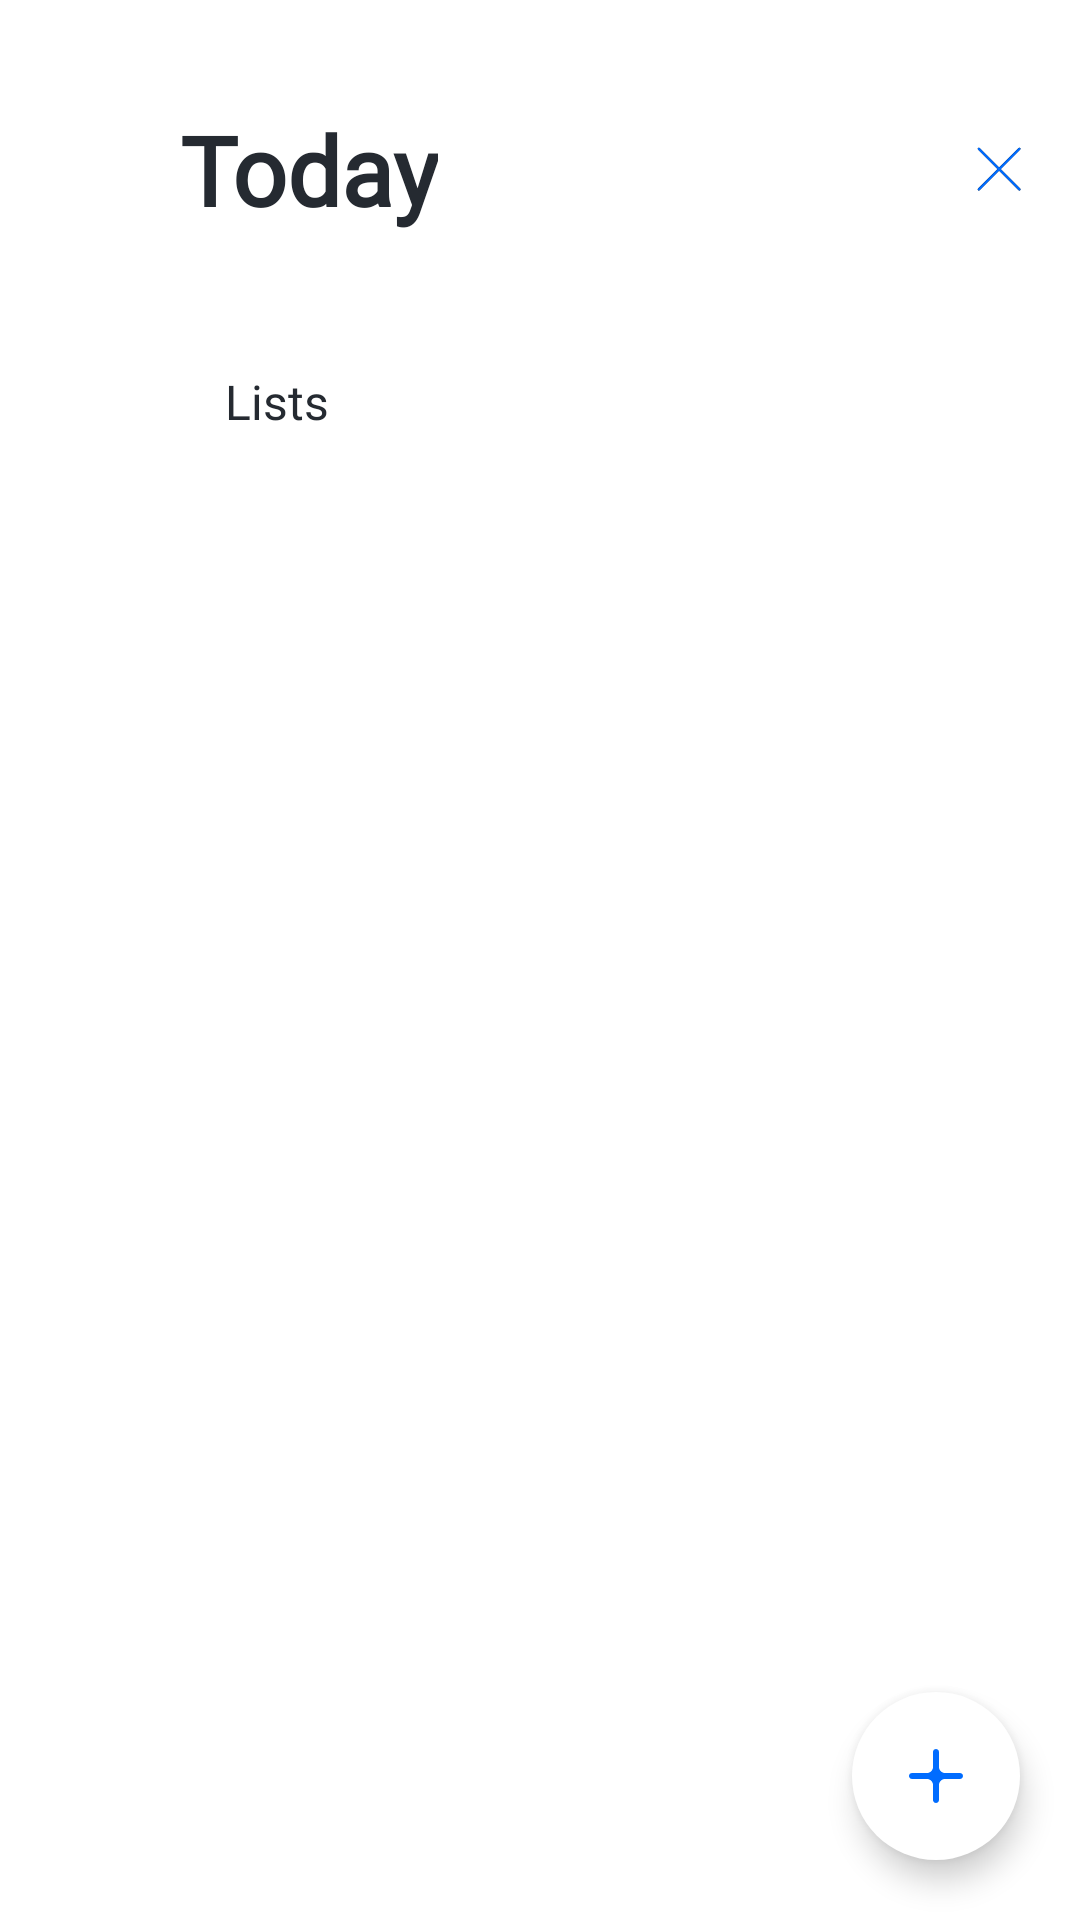

Locate icon controls on the screen. Image size 1080x1920, boxes as (x1, y1, x2, y2).
plus: (857, 1749, 1020, 1860)
